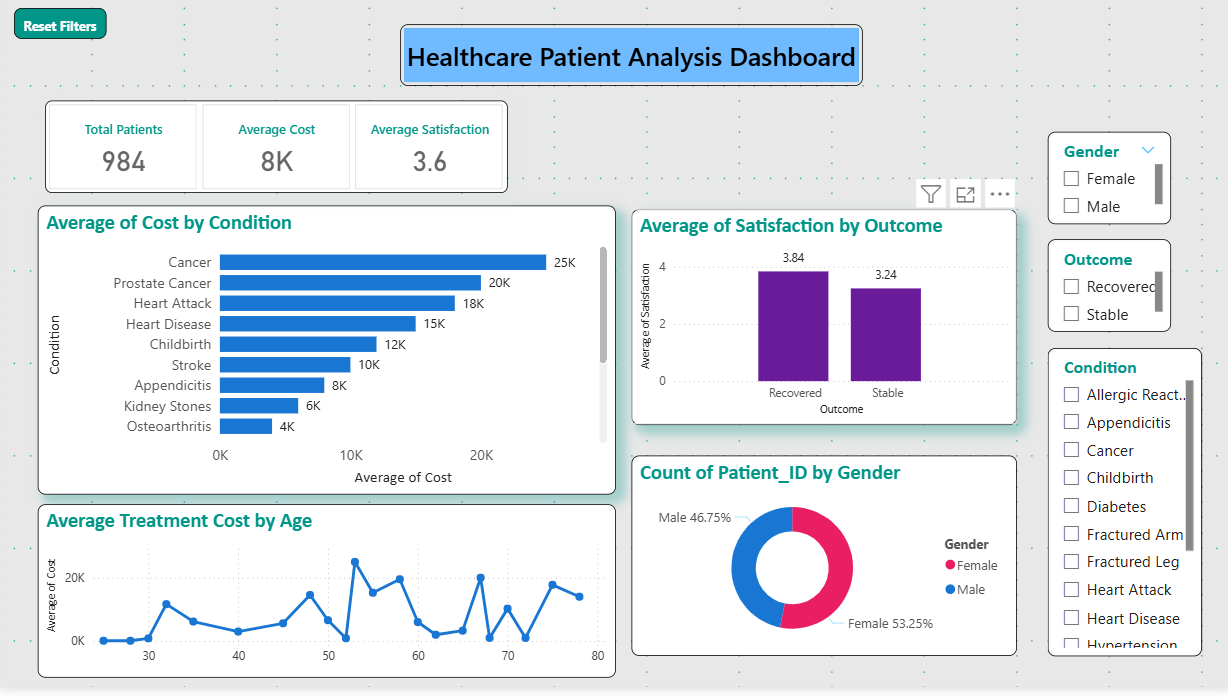

The dashboard page shown, as its layout file describes it:
{"tool":"powerbi","page":{"name":"Healthcare","canvas":[1280,720],"ordinal":0},"visuals":[{"type":"donutChart","fields":{"Category":["healthcare_final.Gender"],"Y":["CountNonNull(healthcare_final.Patient_ID)"]},"box":[656,480,400,208],"z":0},{"type":"clusteredBarChart","fields":{"Category":["healthcare_final.Condition"],"Y":["Avg(healthcare_final.Cost)"]},"box":[40,220,600,300],"z":1000},{"type":"slicer","fields":{"Values":["healthcare_final.Gender"]},"box":[1088,144,128,96],"z":2000},{"type":"slicer","fields":{"Values":["healthcare_final.Outcome"]},"box":[1088,256,128,96],"z":3000},{"type":"slicer","fields":{"Values":["healthcare_final.Condition"]},"box":[1088,368,160,320],"z":4000},{"type":"actionButton","box":[16,16,96,32],"z":5000},{"type":"shape","box":[416,32,480,64],"z":6000},{"type":"cardVisual","fields":{"Data":["CountNonNull(healthcare_final.Patient_ID)","Avg(healthcare_final.Cost)","Avg(healthcare_final.Satisfaction)"]},"box":[48,112,480,96],"z":7000},{"type":"clusteredColumnChart","fields":{"Category":["healthcare_final.Outcome"],"Y":["Avg(healthcare_final.Satisfaction)"]},"box":[656,224,400,224],"z":8000},{"type":"lineChart","title":"Average Treatment Cost by Age","fields":{"Category":["healthcare_final.Age"],"Y":["Avg(healthcare_final.Cost)"]},"box":[40,530,600,180],"z":9000}]}

Visuals, with their boxes in screenshot pixels (x1, y1, x2, y2), scaled from the page's 1280x720 canvas onto the 1228x697 screenshot:
donutChart - healthcare_final.Gender x CountNonNull(healthcare_final.Patient_ID): detection(629, 465, 1013, 666)
clusteredBarChart - healthcare_final.Condition x Avg(healthcare_final.Cost): detection(38, 213, 614, 503)
slicer - healthcare_final.Gender: detection(1044, 139, 1167, 232)
slicer - healthcare_final.Outcome: detection(1044, 248, 1167, 341)
slicer - healthcare_final.Condition: detection(1044, 356, 1197, 666)
actionButton: detection(15, 15, 107, 46)
shape: detection(399, 31, 860, 93)
cardVisual - CountNonNull(healthcare_final.Patient_ID) x Avg(healthcare_final.Cost): detection(46, 108, 507, 201)
clusteredColumnChart - healthcare_final.Outcome x Avg(healthcare_final.Satisfaction): detection(629, 217, 1013, 434)
"Average Treatment Cost by Age" lineChart: detection(38, 513, 614, 687)
